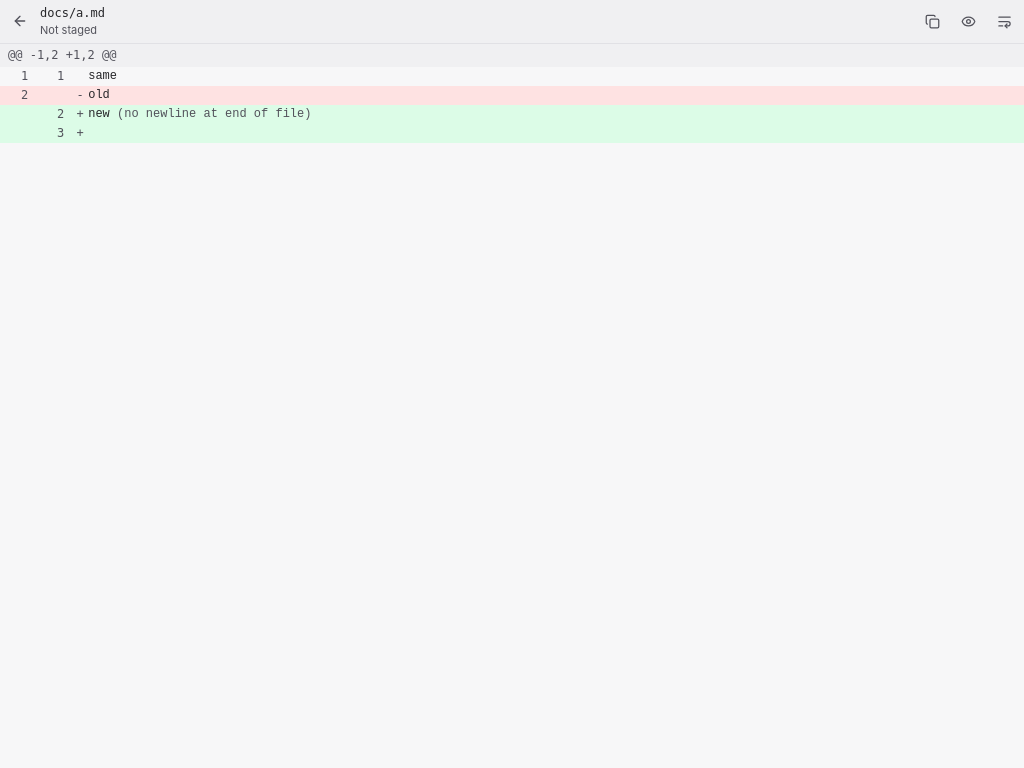
Test: DiffViewer: Markdown preview › says when the file cannot be read: {}
The image size is (1024, 768).
Expected: the element with test id "diff" is shown, [0,44,1023,143]
Click the button named "Preview" at coordinates (968, 21), box [952,5,984,37]
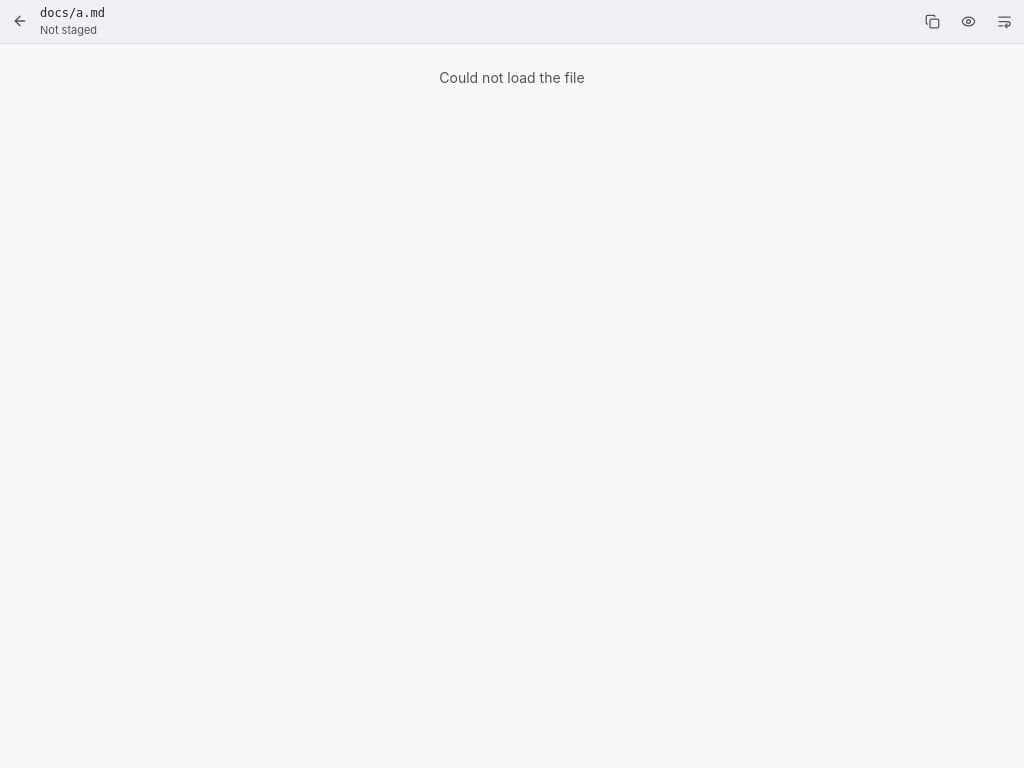
Result: the text "Could not load the file" is shown at [439,68,585,86]
